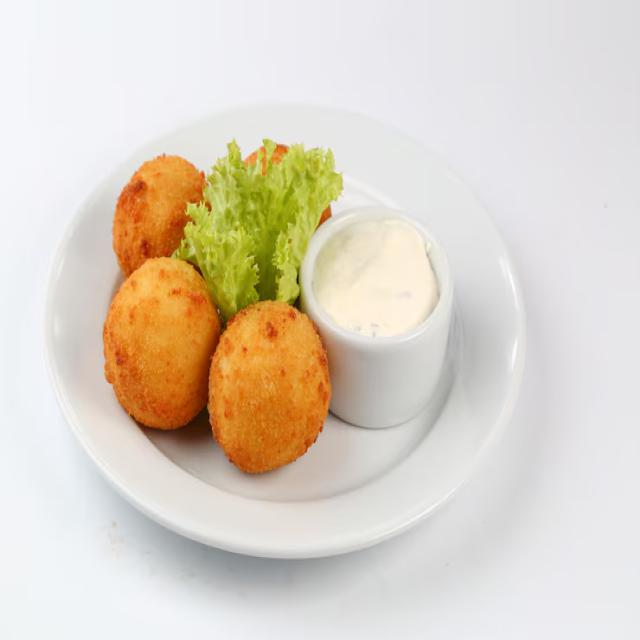BONDA: (99, 138, 335, 477)
CURD: (310, 222, 440, 343)
